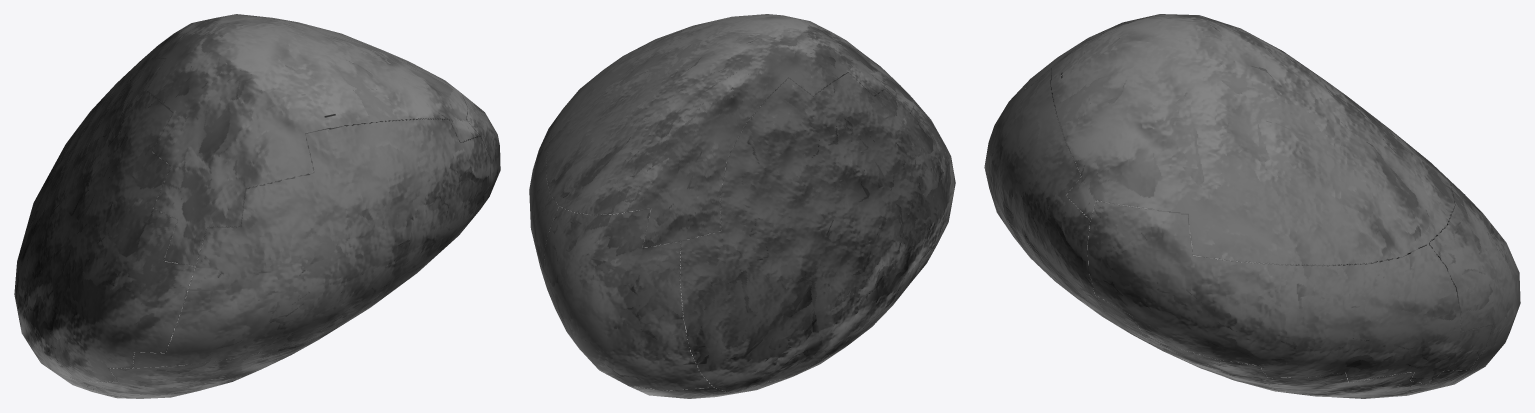
Rendered from asteroid.fbx.
3 views of the same model, side by side, from view 1: azimuth 30°, elevation 25°; view 2: azimuth 150°, elevation 25°; view 3: azimuth 270°, elevation 25° (orthographic). The views are drawn at different scales.
Parts seen in each view (by area): view 1: Empty_Mesh; view 2: Empty_Mesh; view 3: Empty_Mesh.
Boxes of the visible parts, x1,y1,x2,y2 form: Empty_Mesh: [14, 14, 500, 398]; Empty_Mesh: [529, 14, 955, 398]; Empty_Mesh: [984, 14, 1520, 398].
Bounding box in the file's own units: 12.45 × 10.31 × 13.63.
